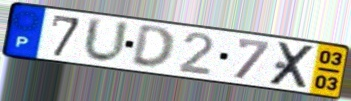2: (175, 31, 216, 77)
7: (234, 36, 273, 82), (50, 13, 83, 58)
D: (129, 24, 176, 71)
U: (81, 15, 132, 66)
X: (266, 41, 319, 90)
